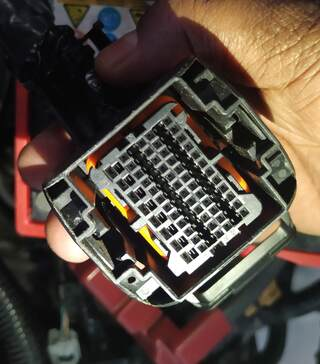connector: (41, 55, 298, 309)
